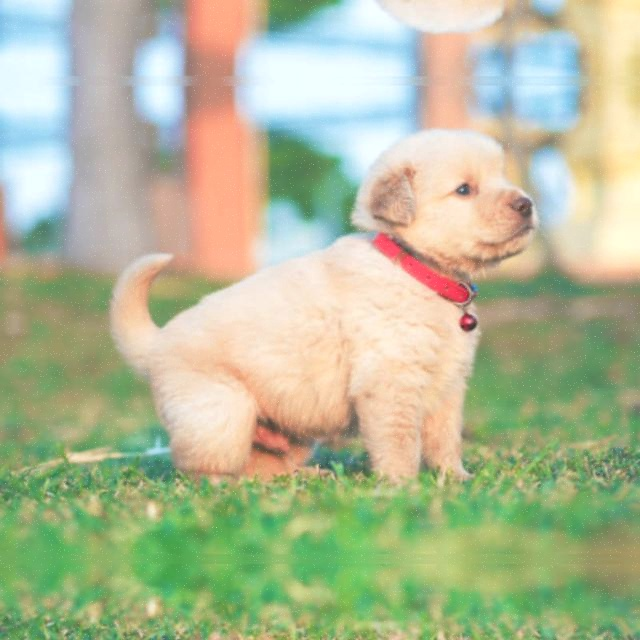dog: (92, 122, 540, 493), (92, 0, 540, 37), (92, 622, 540, 640)
